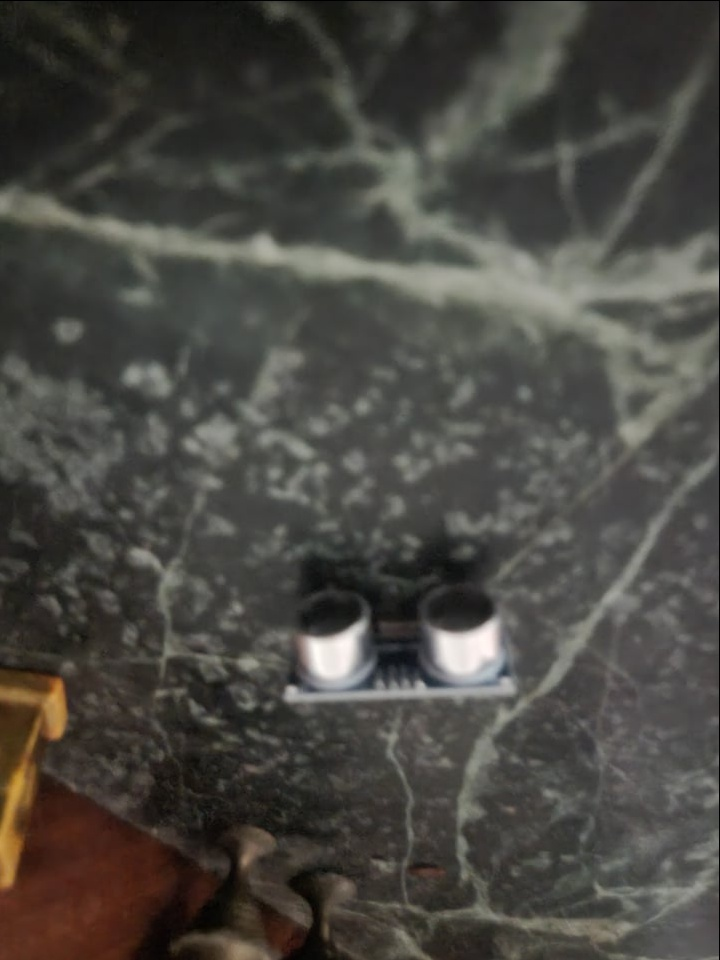SENSOR: (283, 576, 512, 702)
